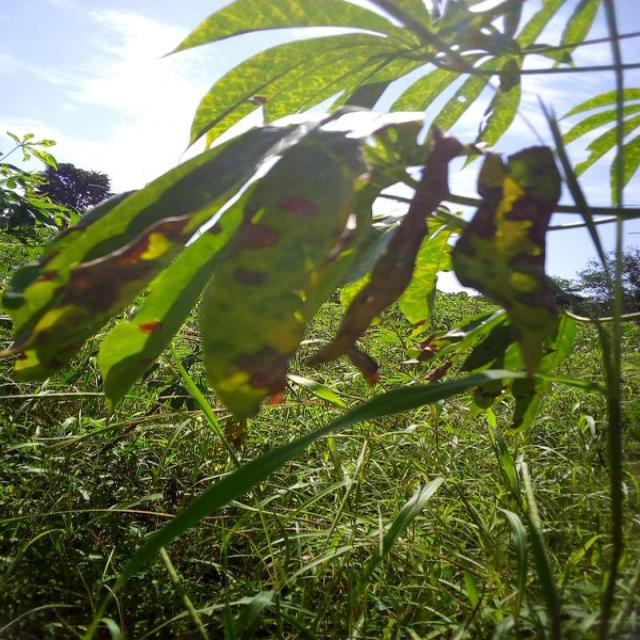cassava leaf: (2, 106, 430, 420)
